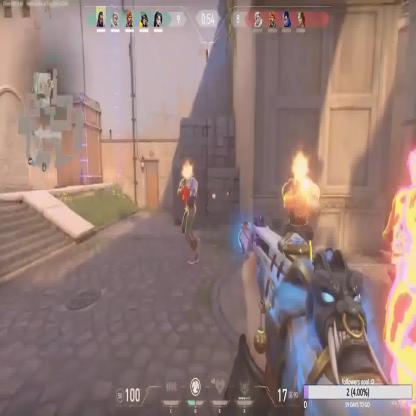enemy: (383, 146, 415, 416), (281, 150, 320, 316), (178, 160, 200, 265)
enemy_head: (292, 154, 308, 180), (407, 149, 415, 187), (182, 160, 193, 180)
